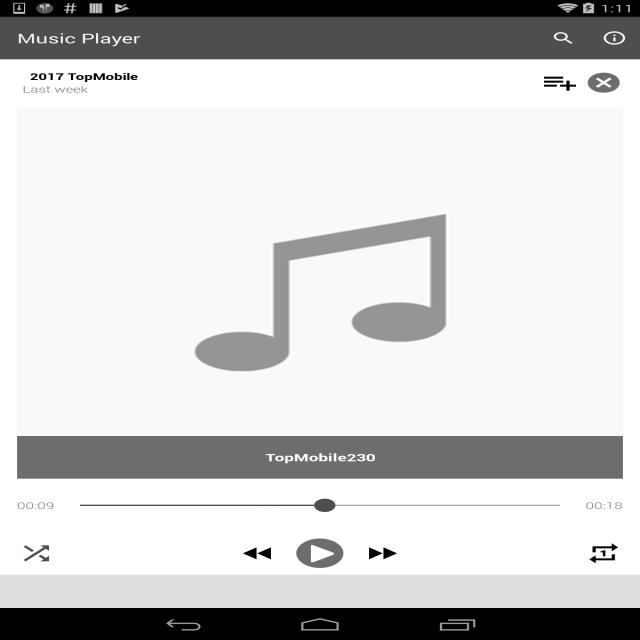Button: (294, 538, 346, 570), (584, 70, 623, 94), (5, 540, 44, 564), (514, 540, 553, 564), (601, 539, 640, 563), (239, 542, 277, 566), (363, 542, 401, 566), (558, 540, 596, 564)
CheckBox: (17, 542, 56, 566), (584, 542, 623, 566)
ImageView: (0, 59, 640, 575), (17, 106, 623, 479), (17, 101, 70, 135), (17, 155, 70, 189), (17, 209, 70, 243), (17, 263, 70, 297), (17, 317, 70, 351), (17, 371, 70, 405), (17, 425, 70, 459), (17, 479, 70, 513), (55, 535, 109, 568), (538, 22, 588, 54), (584, 106, 623, 130), (584, 160, 623, 184), (584, 214, 623, 238), (584, 268, 623, 292), (584, 322, 623, 346), (584, 376, 623, 400), (584, 430, 623, 454), (584, 484, 623, 508), (541, 70, 579, 94)
TextView: (17, 436, 623, 479), (22, 70, 536, 83), (88, 105, 568, 118), (88, 159, 568, 172), (88, 213, 568, 226), (88, 267, 568, 280), (88, 321, 568, 334), (88, 375, 568, 388), (88, 429, 568, 442), (88, 483, 568, 496), (22, 83, 536, 95), (114, 545, 514, 558), (88, 59, 197, 92), (0, 59, 88, 92), (17, 29, 141, 47), (589, 22, 640, 54), (87, 118, 125, 131), (87, 172, 125, 185), (87, 226, 125, 239), (87, 280, 125, 293), (87, 334, 125, 347), (87, 388, 125, 401), (87, 442, 125, 455), (87, 496, 125, 509), (17, 499, 54, 512), (586, 499, 623, 512)
